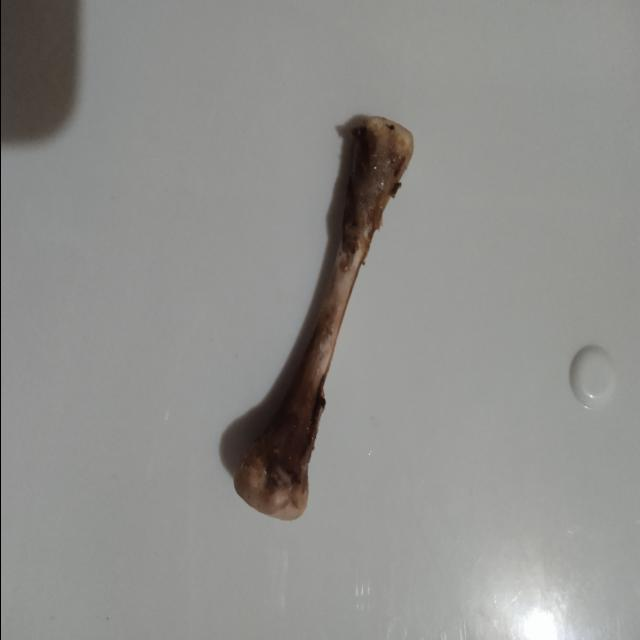bone: (222, 107, 420, 529)
